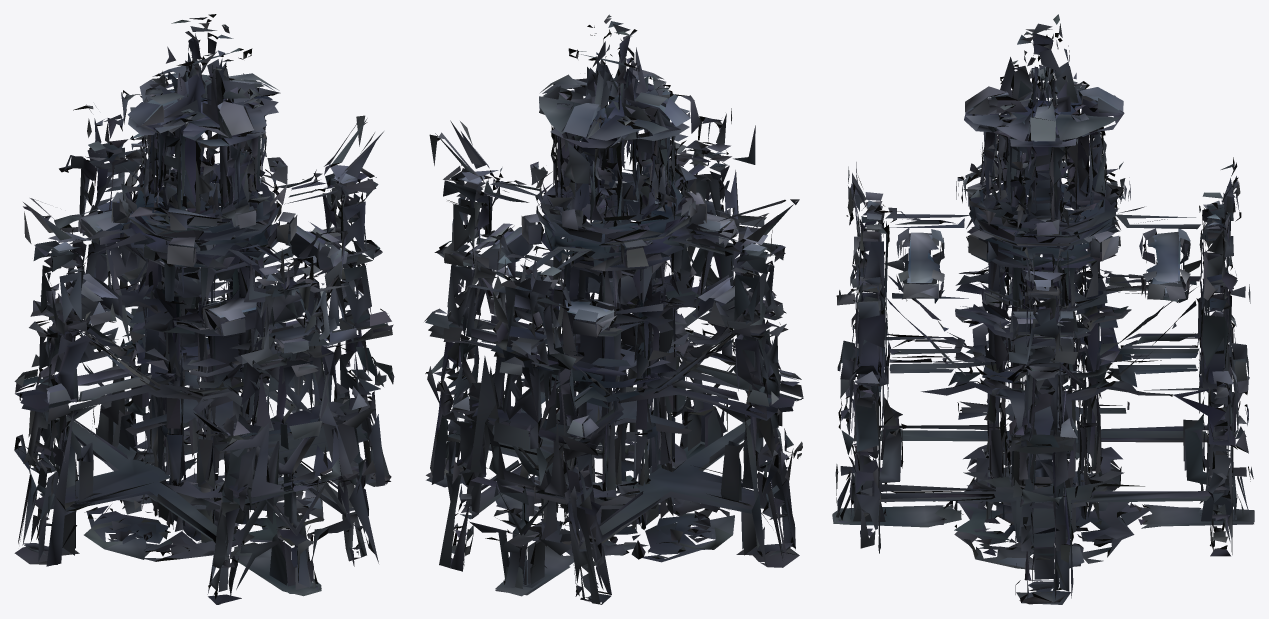
The model's file is fondor-gantry.lo.glb.
3 renders of one model, left to right at view 1: azimuth 30°, elevation 25°; view 2: azimuth 150°, elevation 25°; view 3: azimuth 270°, elevation 25°, orthographic.
Parts seen in each view (by area): view 1: low; view 2: low; view 3: low.
Part boxes in pixels (bbox=[...]): low: bbox=[14, 14, 394, 604]; low: bbox=[424, 14, 803, 604]; low: bbox=[832, 14, 1254, 604].
Bounding box in the file's own units: 0.7378 × 0.9672 × 0.7482.
1 material, 1 textured.
